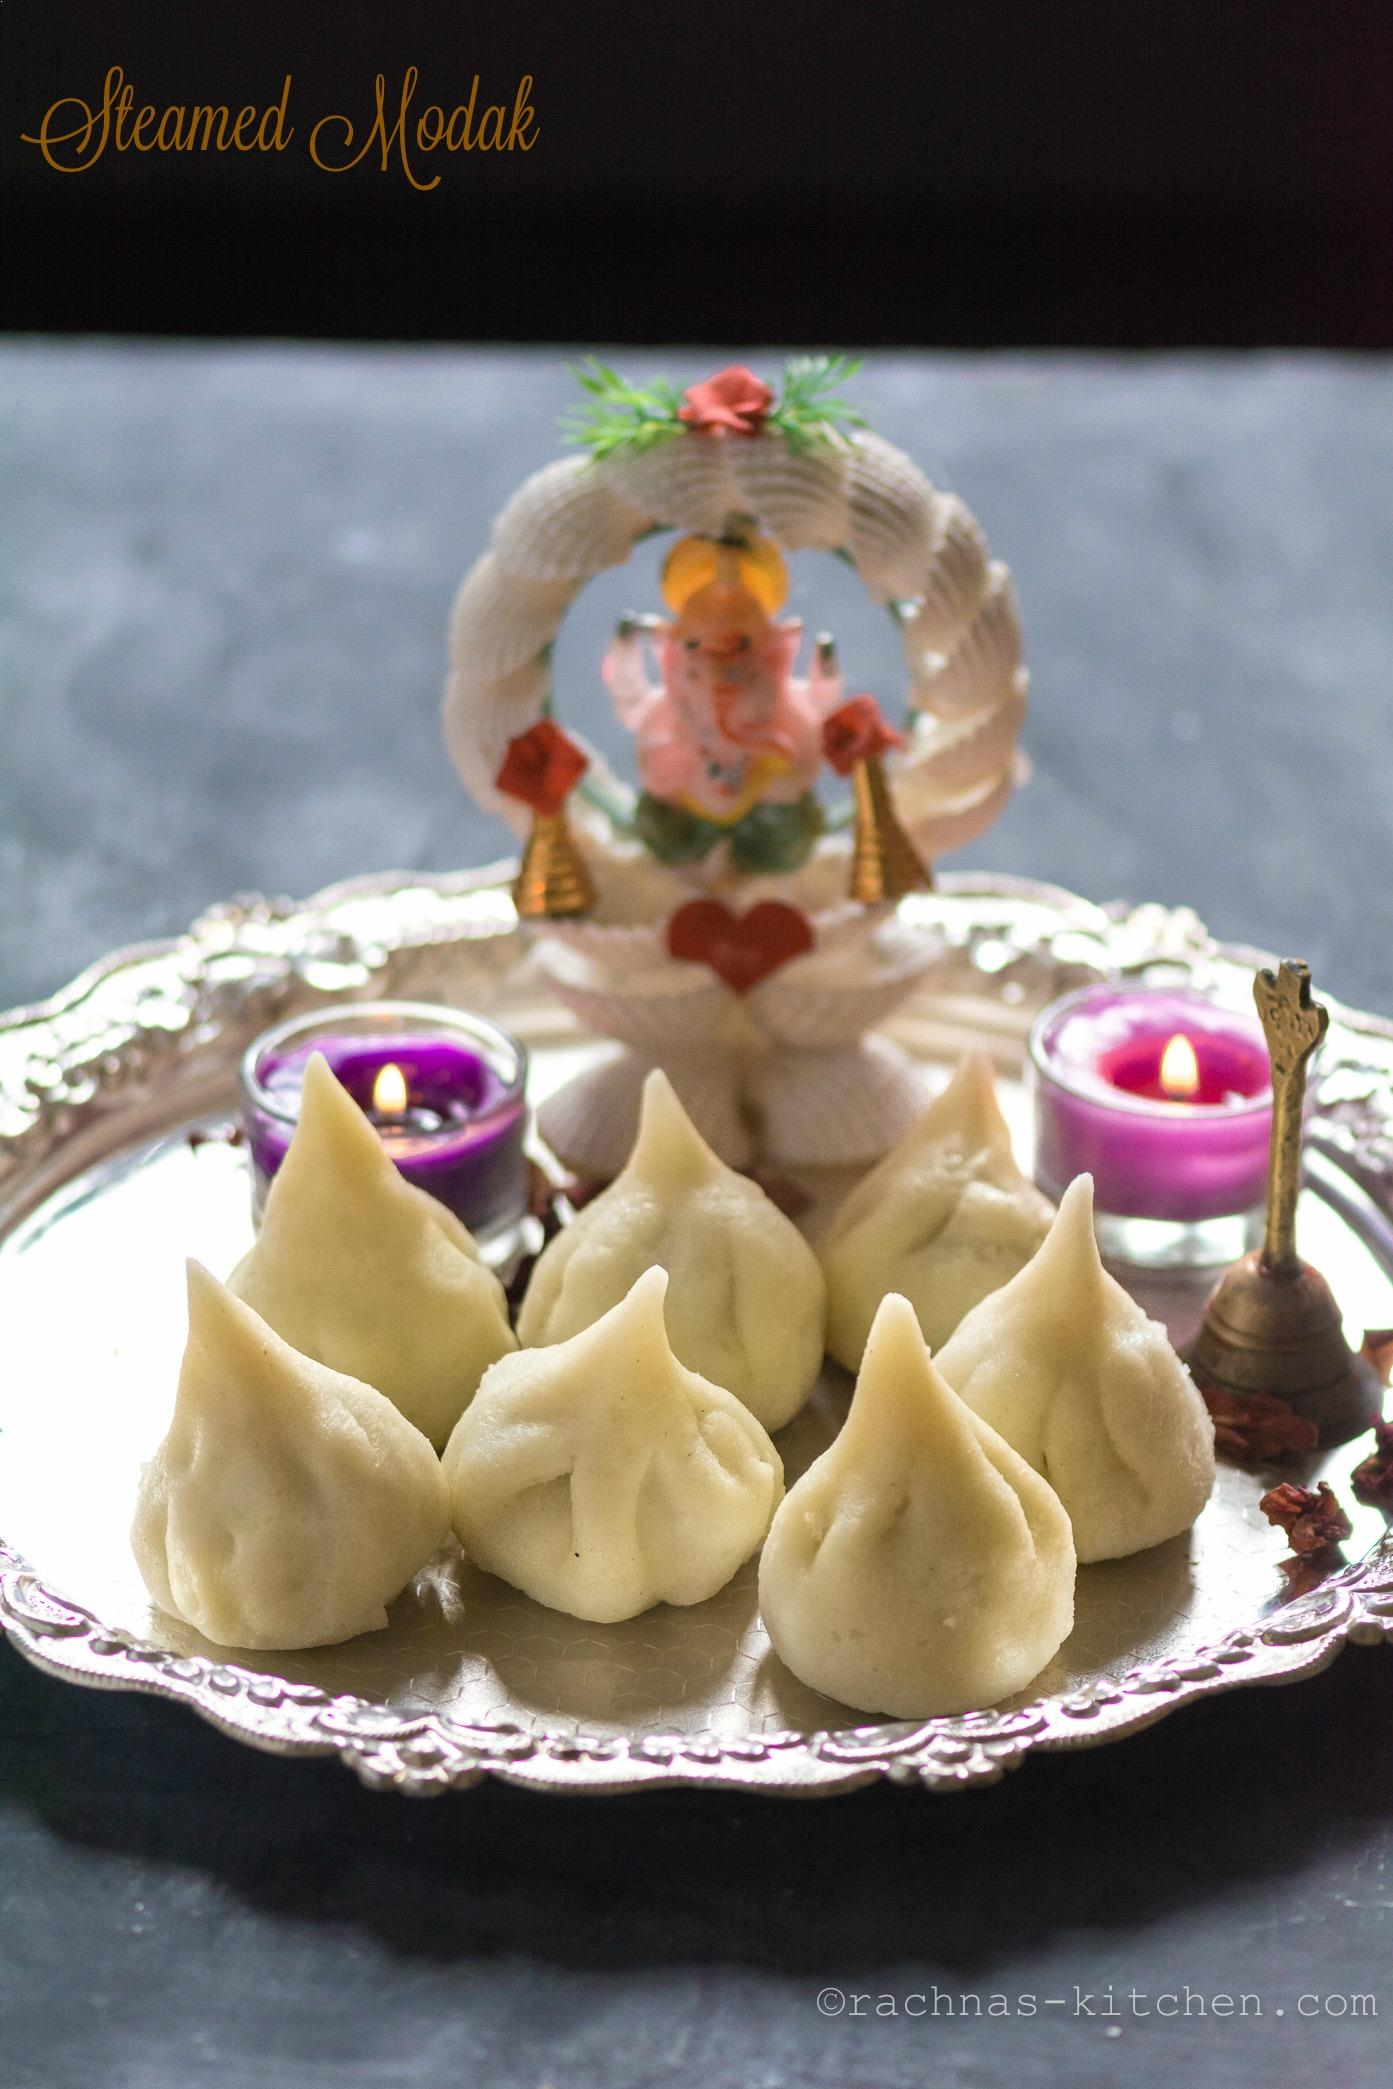modak: (732, 1292, 1077, 1711), (159, 1271, 454, 1671), (937, 1203, 1241, 1589), (449, 1295, 774, 1641), (518, 1069, 840, 1405)
